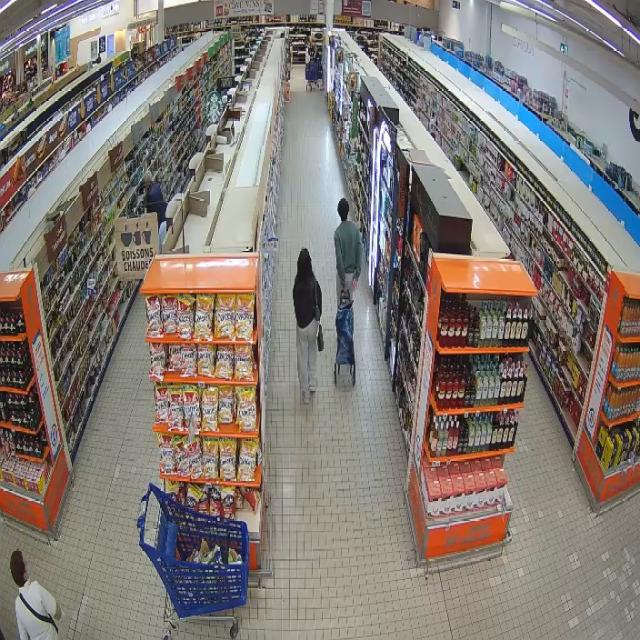bags: (20, 594, 58, 633), (315, 281, 320, 322)
hands: (353, 279, 358, 291), (341, 287, 348, 295)
person: (293, 249, 323, 403), (10, 549, 61, 639), (334, 198, 362, 306)
